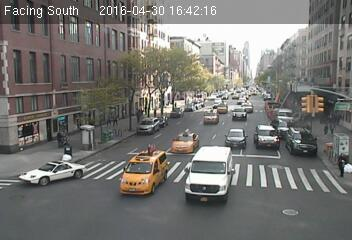neg: (86, 177, 103, 200), (181, 137, 197, 158), (197, 100, 213, 121), (271, 91, 287, 112), (212, 161, 227, 181), (237, 102, 252, 122), (158, 90, 173, 109), (40, 155, 54, 174), (137, 159, 150, 177), (258, 136, 269, 151), (54, 107, 65, 122)
pos: (329, 145, 351, 178), (132, 106, 148, 127), (108, 108, 123, 128), (101, 110, 114, 128), (327, 120, 338, 134), (323, 124, 332, 137)
